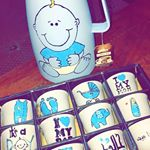cups: (23, 1, 113, 85)
